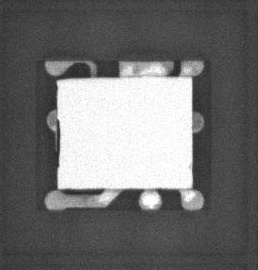DIE_BROKEN: (56, 116, 62, 172)
